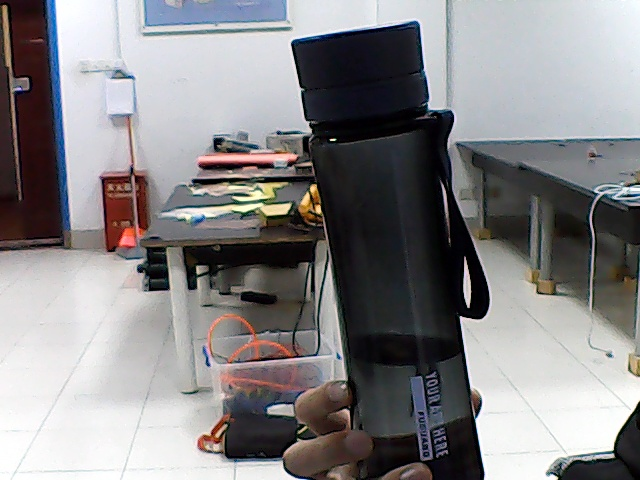cup: (351, 36, 438, 450)
